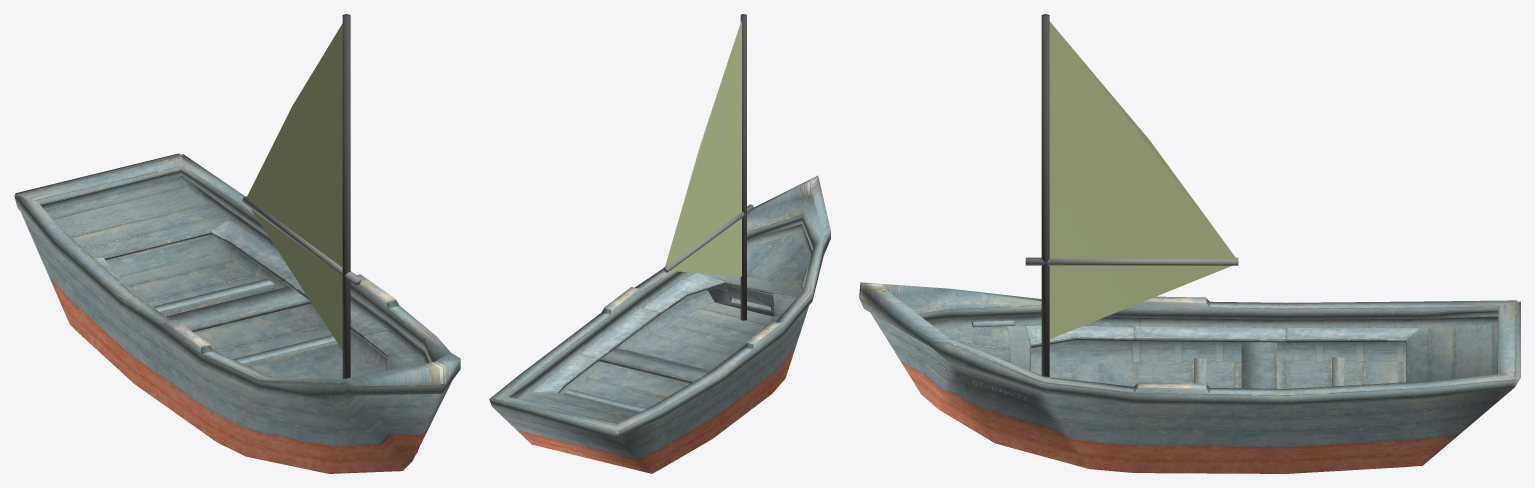
Rendered from barco.obj.
The picture shows the model from 3 angles, left to right: view 1: azimuth 30°, elevation 25°; view 2: azimuth 150°, elevation 25°; view 3: azimuth 270°, elevation 25°; orthographic projection. The views are drawn at different scales.
Parts seen in each view (by area): view 1: boat, vela, mastil, Cylinder001; view 2: boat, vela, mastil, Cylinder001; view 3: boat, vela, mastil, Cylinder001.
Boxes of the visible parts, x1,y1,x2,y2 form: boat: [14, 153, 460, 473]; vela: [246, 23, 342, 350]; mastil: [342, 14, 350, 378]; Cylinder001: [242, 196, 360, 285]; boat: [489, 175, 830, 473]; vela: [665, 21, 741, 276]; mastil: [740, 14, 746, 320]; Cylinder001: [663, 204, 753, 272]; boat: [859, 282, 1520, 473]; vela: [1049, 21, 1238, 338]; mastil: [1041, 14, 1049, 376]; Cylinder001: [1025, 257, 1238, 265].
Size of the model in its own units: 12.98 by 27.48 by 39.42.
